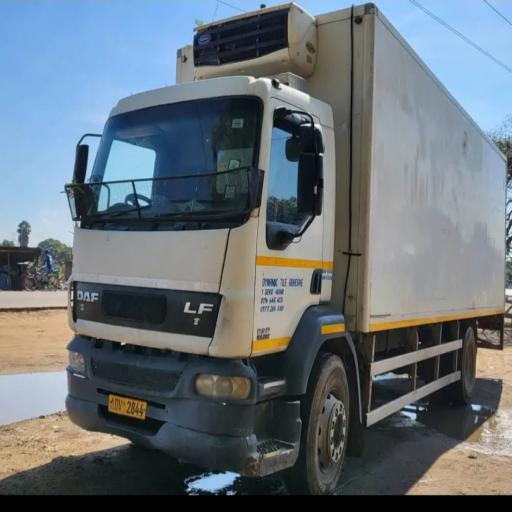number-plates: (107, 392, 147, 422)
